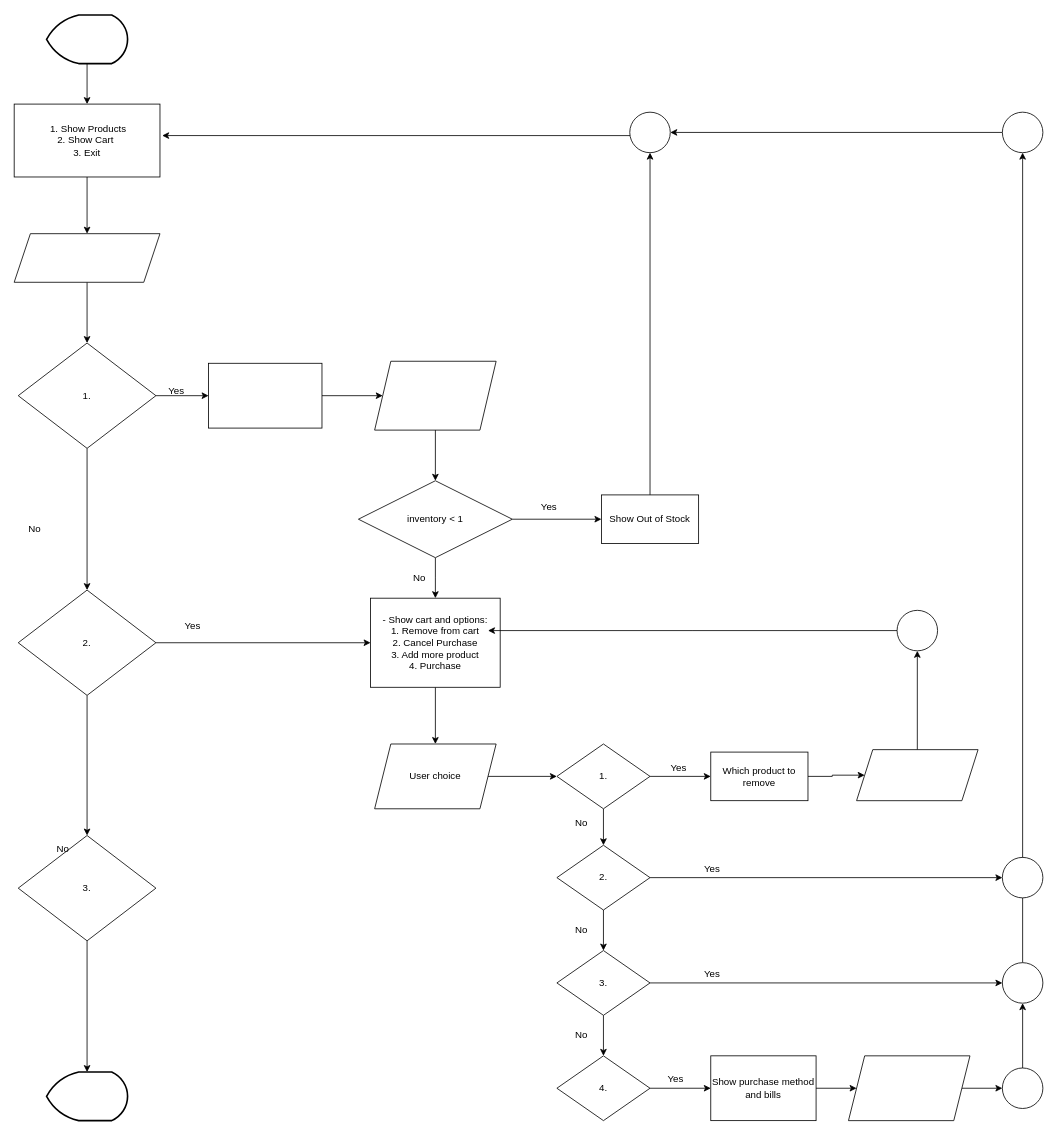
Some shapes in this 1057 by 1135 pixel diagram are drawn without their labels. The centre of each missing label's shape, as x and y in pixels:
"- Show Products 1.Add to Cart" goes at [265,395].
"Gets choice from user" goes at [86,257].
"Product selected to add to cart" goes at [435,395].
"Selected Product" goes at [917,775].
"Start" goes at [86,39].
"Stop" goes at [86,1096].
"update inventory" goes at [909,1088].
